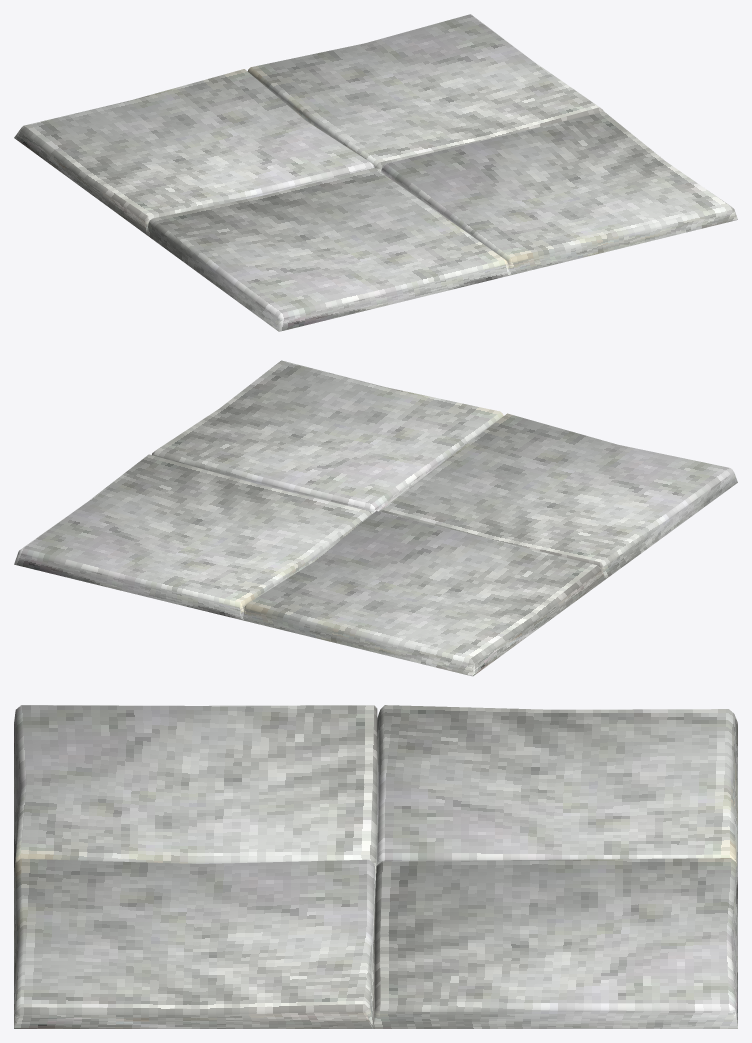
Rendered from floor_centered.glb.
3 renders of one model, top to bottom at view 1: azimuth 30°, elevation 25°; view 2: azimuth 150°, elevation 25°; view 3: azimuth 270°, elevation 25°, orthographic. The views are drawn at different scales.
Parts seen in each view (by area): view 1: stone_floor.011; view 2: stone_floor.011; view 3: stone_floor.011.
Boxes of the visible parts, <box> form: stone_floor.011: <box>14,14,737,331</box>; stone_floor.011: <box>14,360,737,676</box>; stone_floor.011: <box>14,705,737,1028</box>.
Size of the model in its own units: 10 by 0.329 by 10.
1 material, 1 textured.
